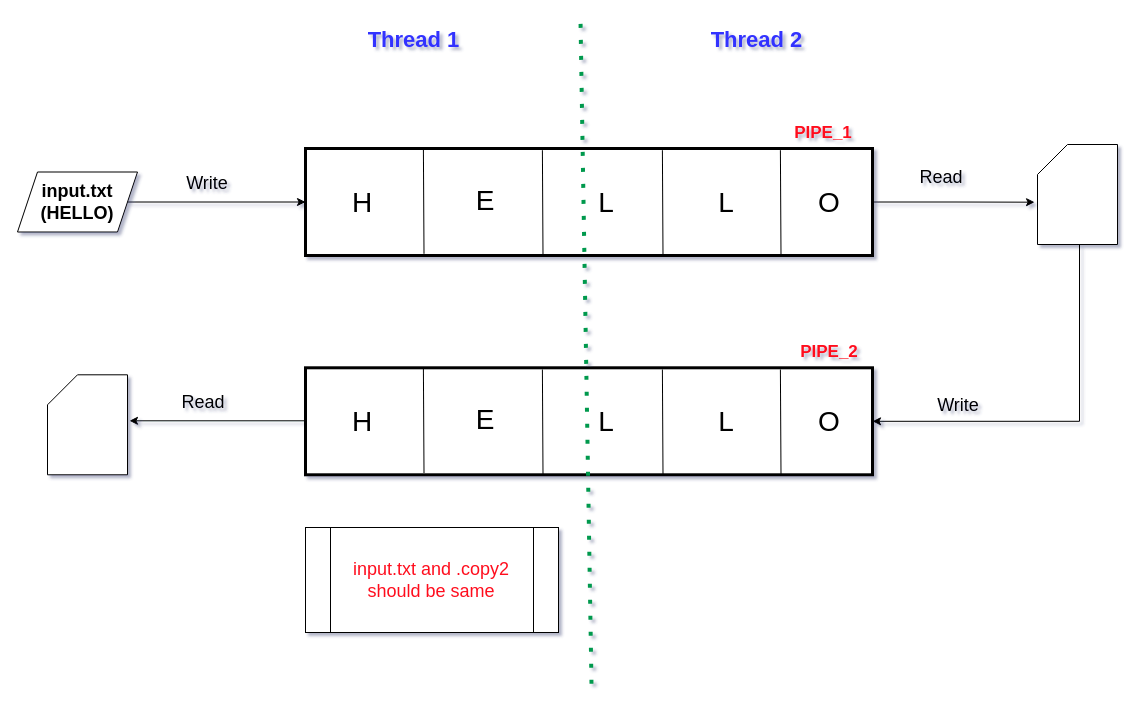
Some shapes in this 1141 by 710 pixel diagram are drawn without their labels. Each missing label, with the box of its shape:
.copy: (1036, 144, 1118, 244)
.copy2: (46, 374, 128, 475)
